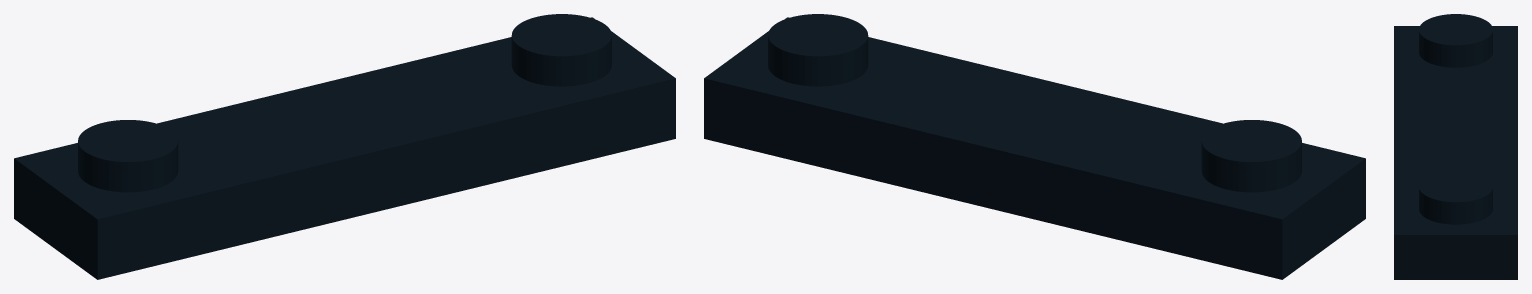
3 views of the same model, side by side, from view 1: azimuth 30°, elevation 25°; view 2: azimuth 150°, elevation 25°; view 3: azimuth 270°, elevation 25° (orthographic). The views are drawn at different scales.
Visible parts, largest first — view 1: box5_1, _4_4disc_4, _4_4disc_3, _1_4cyli_12, _1_4cyli_16, _1_4cyli_13, _1_4cyli_17; view 2: box5_1, _4_4disc_4, _4_4disc_3, _1_4cyli_15, _1_4cyli_19, _1_4cyli_14, _1_4cyli_18; view 3: box5_1, _4_4disc_3, _4_4disc_4, _1_4cyli_17, _1_4cyli_18, _1_4cyli_13, _1_4cyli_14.
Part boxes in pixels (x1,y1,x2,y2): box5_1: (14,17,675,279); _4_4disc_4: (512,14,611,56); _4_4disc_3: (78,120,177,162); _1_4cyli_12: (84,152,152,192); _1_4cyli_16: (518,46,586,86); _1_4cyli_13: (153,141,178,189); _1_4cyli_17: (587,36,611,83); box5_1: (704,17,1365,279); _4_4disc_4: (768,14,867,56); _4_4disc_3: (1202,120,1301,162); _1_4cyli_15: (1227,152,1295,192); _1_4cyli_19: (793,46,861,86); _1_4cyli_14: (1201,141,1226,189); _1_4cyli_18: (768,36,792,83); box5_1: (1394,26,1517,279); _4_4disc_3: (1419,14,1492,45); _4_4disc_4: (1419,171,1492,202); _1_4cyli_17: (1419,188,1455,224); _1_4cyli_18: (1456,188,1492,224); _1_4cyli_13: (1419,32,1455,67); _1_4cyli_14: (1456,32,1492,67).
Size of the model in its own units: 80 by 12 by 20.
